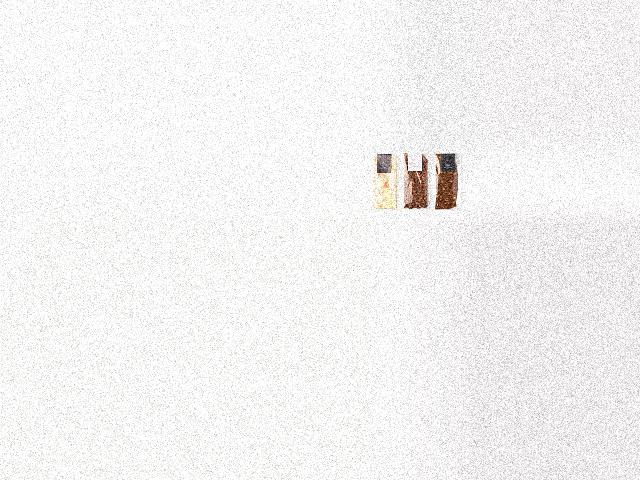chocolate: (432, 154, 467, 215)
